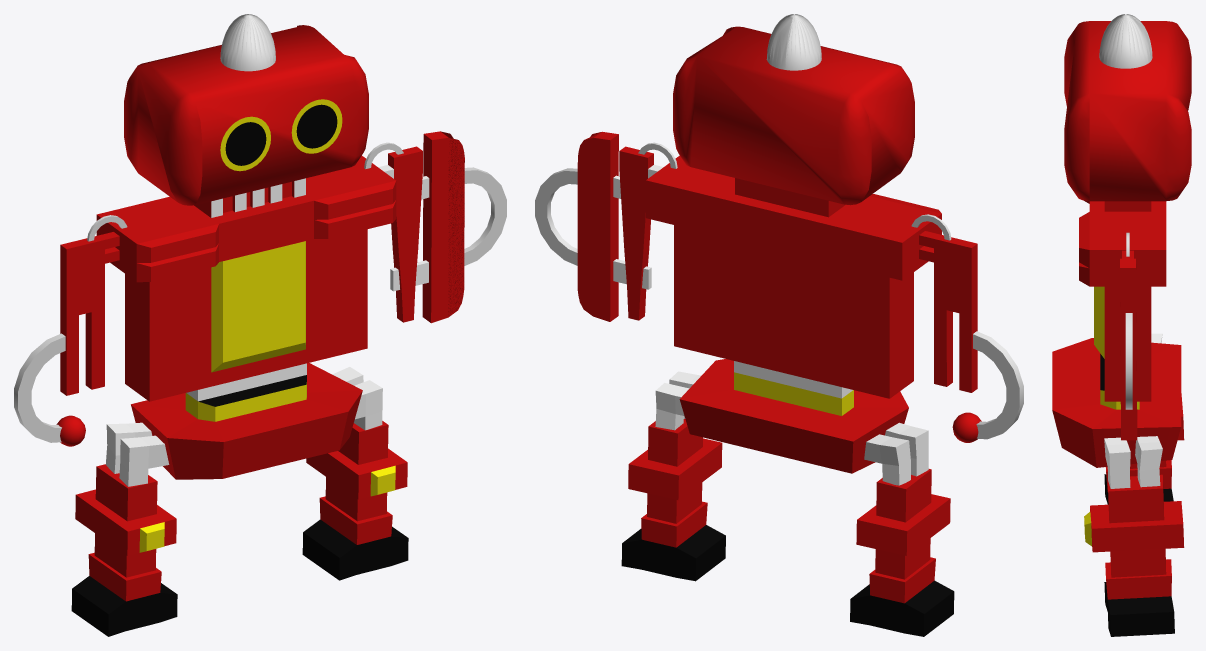
3 renders of one model, left to right at view 1: azimuth 30°, elevation 25°; view 2: azimuth 150°, elevation 25°; view 3: azimuth 270°, elevation 25°, orthographic. The views are drawn at different scales.
Parts seen in each view (by area): view 1: BoîteChanfrein001, Boîte003, Boîte001, Tube001, Sphère001, Cercle003, Cercle004, Cercle001, Cercle002, Sphère002; view 2: BoîteChanfrein001, Boîte003, Boîte001, Tube001, Sphère001, Sphère002; view 3: BoîteChanfrein001, Boîte003, Boîte001, Sphère001, Tube001.
Boxes of the visible parts, <box> form: BoîteChanfrein001: <box>60,25,429,486</box>; Boîte003: <box>71,421,408,636</box>; Boîte001: <box>422,131,464,323</box>; Tube001: <box>14,142,506,442</box>; Sphère001: <box>220,14,275,71</box>; Cercle003: <box>296,104,337,148</box>; Cercle004: <box>225,122,266,165</box>; Cercle001: <box>291,99,342,153</box>; Cercle002: <box>220,116,270,171</box>; Sphère002: <box>56,415,85,446</box>; BoîteChanfrein001: <box>613,26,977,485</box>; Boîte003: <box>621,419,954,636</box>; Boîte001: <box>577,131,618,321</box>; Tube001: <box>535,142,1023,439</box>; Sphère001: <box>766,14,821,70</box>; Sphère002: <box>952,412,981,442</box>; BoîteChanfrein001: <box>1052,21,1191,488</box>; Boîte003: <box>1084,393,1184,636</box>; Boîte001: <box>1120,258,1137,440</box>; Sphère001: <box>1099,14,1152,68</box>; Tube001: <box>1125,232,1132,409</box>.
Bounding box in the file's own units: 46.92 × 52.8 × 12.13.
